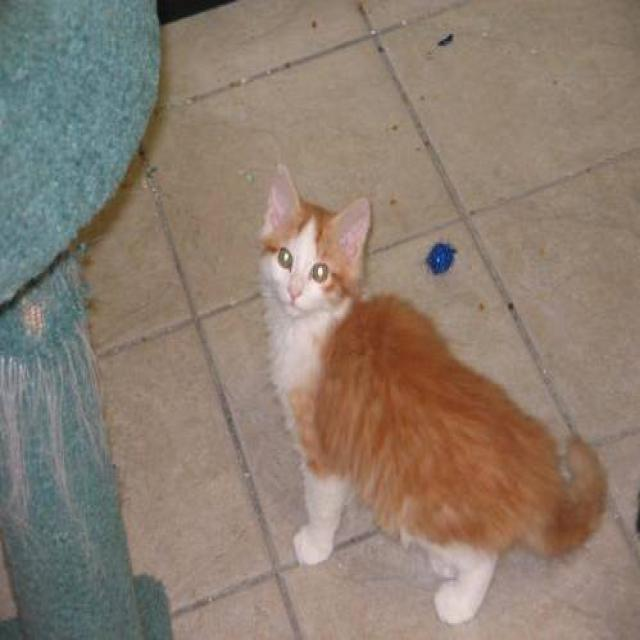Cat: (253, 156, 378, 341)
